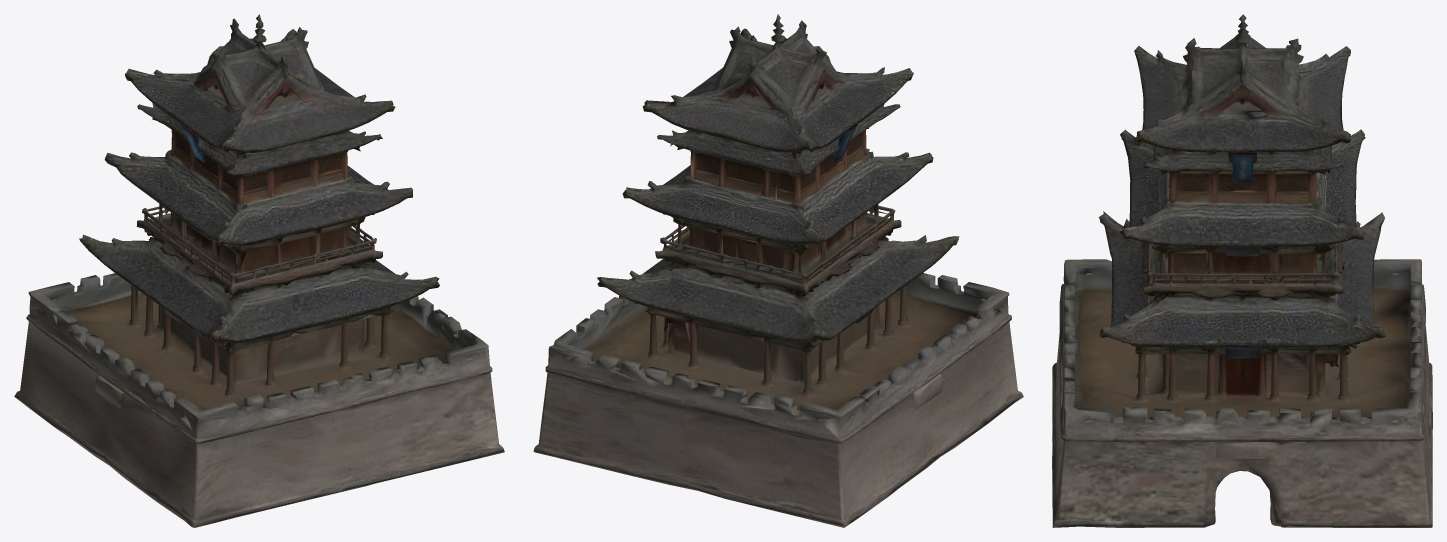
Rendered from building-bianjinglou.glb.
3 renders of one model, left to right at view 1: azimuth 30°, elevation 25°; view 2: azimuth 150°, elevation 25°; view 3: azimuth 270°, elevation 25°, orthographic. The views are drawn at different scales.
Visible parts, largest first — view 1: node_0b1fd1af-d6b4-4b2d-b4e0-31c540253391; view 2: node_0b1fd1af-d6b4-4b2d-b4e0-31c540253391; view 3: node_0b1fd1af-d6b4-4b2d-b4e0-31c540253391.
Boxes of the visible parts, x1,y1,x2,y2 form: node_0b1fd1af-d6b4-4b2d-b4e0-31c540253391: (14,14,504,527); node_0b1fd1af-d6b4-4b2d-b4e0-31c540253391: (533,14,1023,527); node_0b1fd1af-d6b4-4b2d-b4e0-31c540253391: (1052,14,1432,527).
Bounding box in the file's own units: 0.7977 × 1 × 0.795.
Materials: 1 (1 with a texture image).
